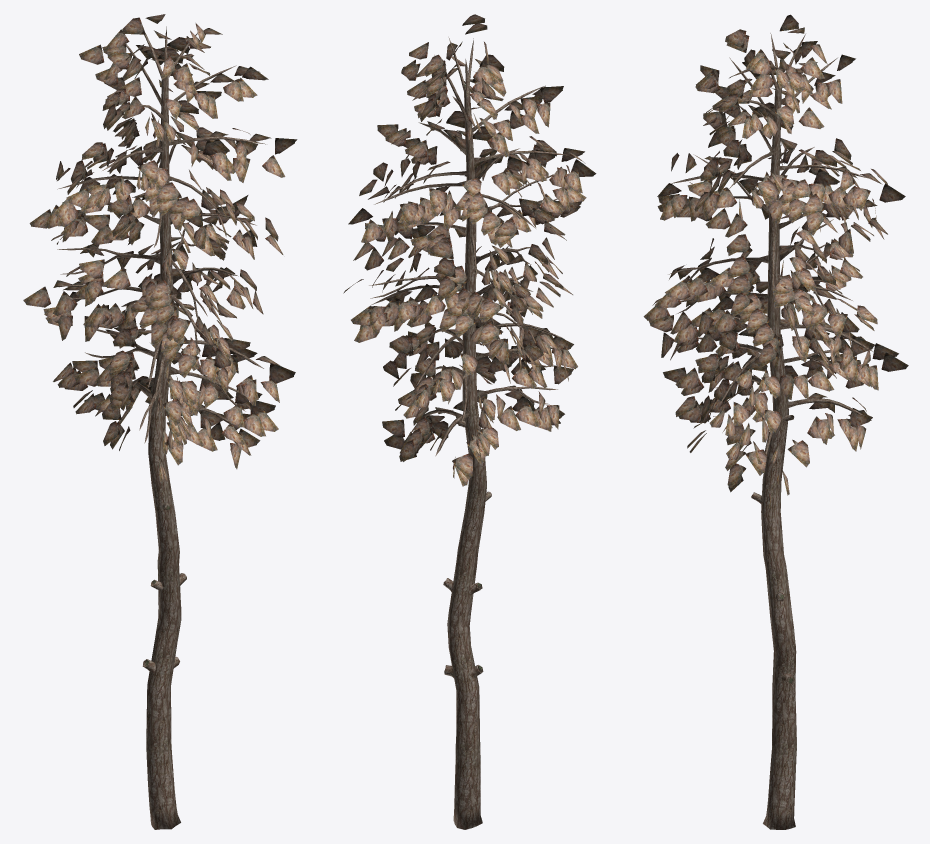
File: defaultdouglasfir.glb
3 renders of one model, left to right at view 1: azimuth 30°, elevation 25°; view 2: azimuth 150°, elevation 25°; view 3: azimuth 270°, elevation 25°, orthographic. The views are drawn at different scales.
Visible parts, largest first — view 1: DefaultDouglasFir; view 2: DefaultDouglasFir; view 3: DefaultDouglasFir.
Boxes of the visible parts, x1=… form: DefaultDouglasFir: x1=23, y1=14, x2=297, y2=829; DefaultDouglasFir: x1=343, y1=14, x2=596, y2=829; DefaultDouglasFir: x1=643, y1=14, x2=908, y2=829.
Bounding box in the file's own units: 7.71 × 25.82 × 8.22.
4 materials, 4 textured.
